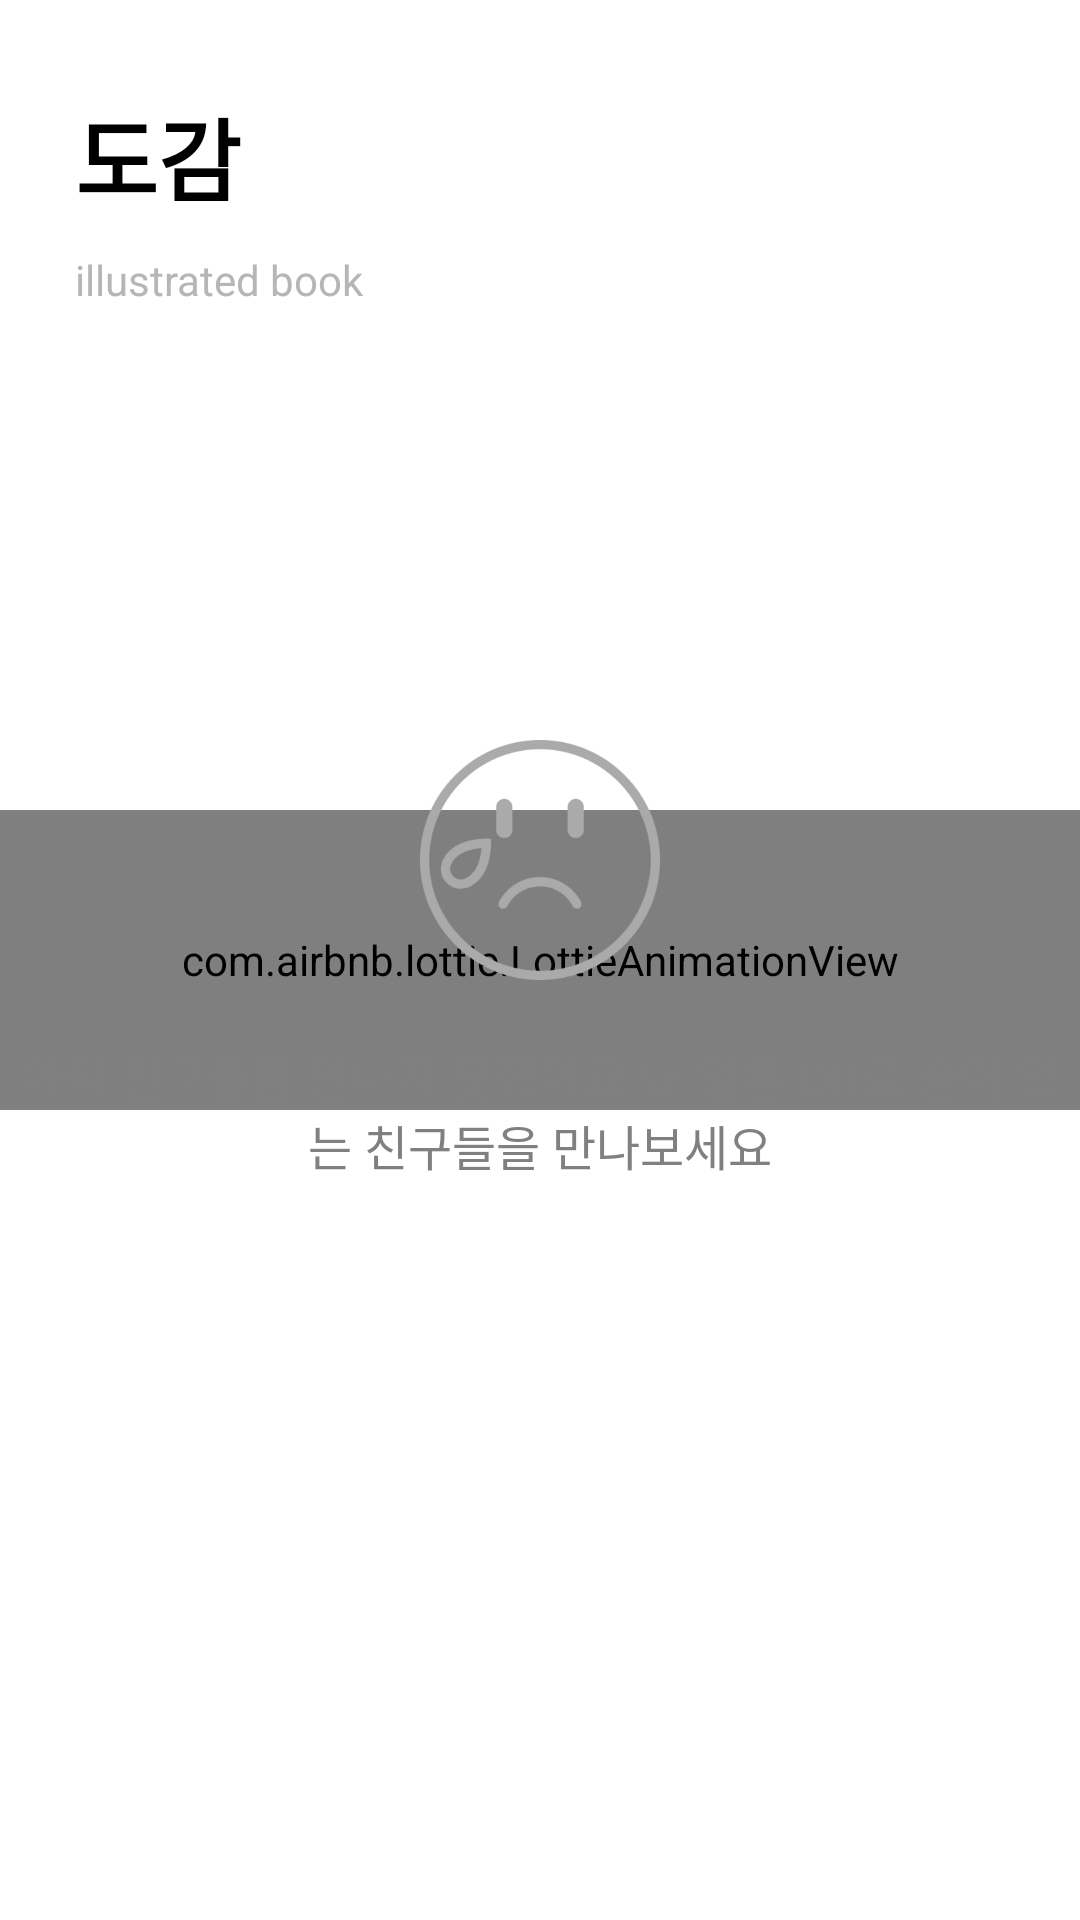

Point at icon controls on the screen. Image size 1080px×1920px, points as (x=x, y=y).
emotion: (x=540, y=860)
